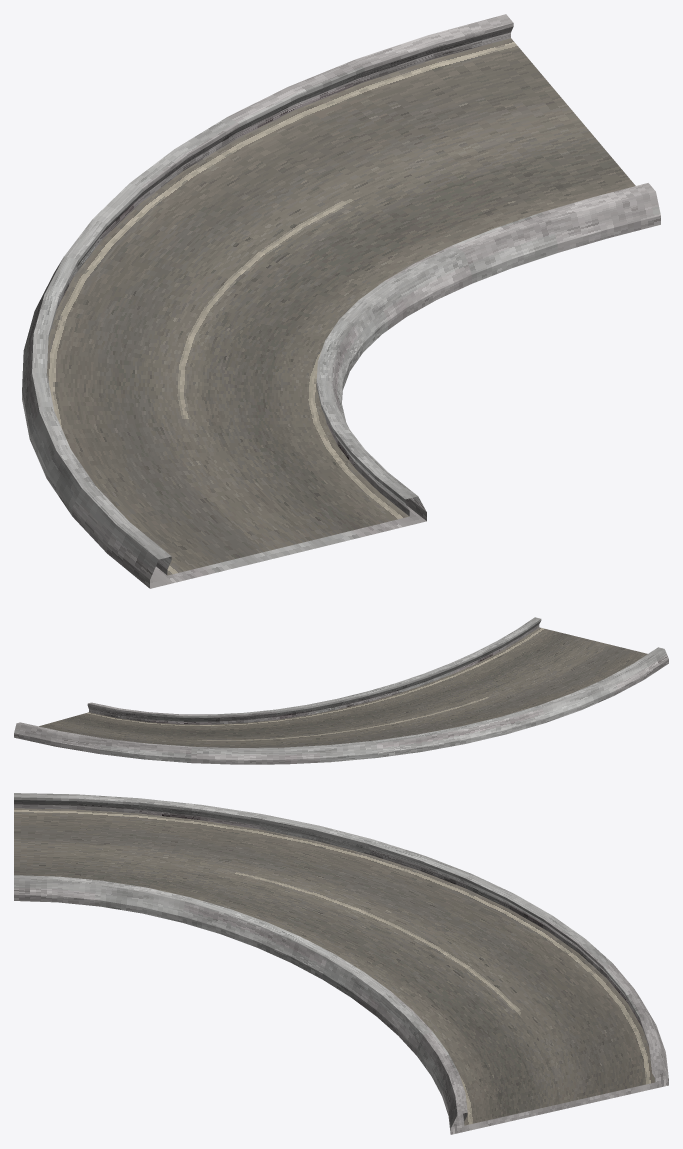
Rendered from road-Turn-Flat-HalfBankedRight-Down1-Right-Size3.glb.
The picture shows the model from 3 angles, top to bottom: view 1: azimuth 30°, elevation 25°; view 2: azimuth 150°, elevation 25°; view 3: azimuth 270°, elevation 25°; orthographic projection. The views are drawn at different scales.
Parts seen in each view (by area): view 1: road-Turn-Flat-HalfBankedRight-Down1-Right-Size3; view 2: road-Turn-Flat-HalfBankedRight-Down1-Right-Size3; view 3: road-Turn-Flat-HalfBankedRight-Down1-Right-Size3.
Part boxes in pixels (bbox=[...]): road-Turn-Flat-HalfBankedRight-Down1-Right-Size3: bbox=[22, 14, 660, 588]; road-Turn-Flat-HalfBankedRight-Down1-Right-Size3: bbox=[14, 617, 668, 764]; road-Turn-Flat-HalfBankedRight-Down1-Right-Size3: bbox=[14, 793, 668, 1134].
Size of the model in its own units: 3 by 0.3438 by 3.
Materials: 2 (2 with a texture image).
